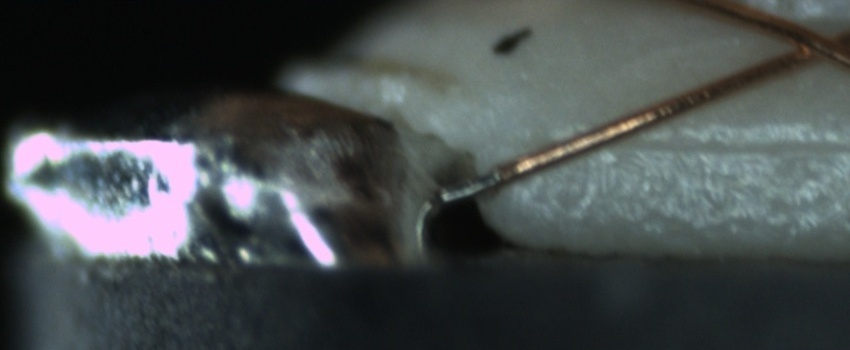CL: (769, 16, 847, 73)
DL: (567, 112, 847, 178)
TS: (438, 169, 504, 203)
